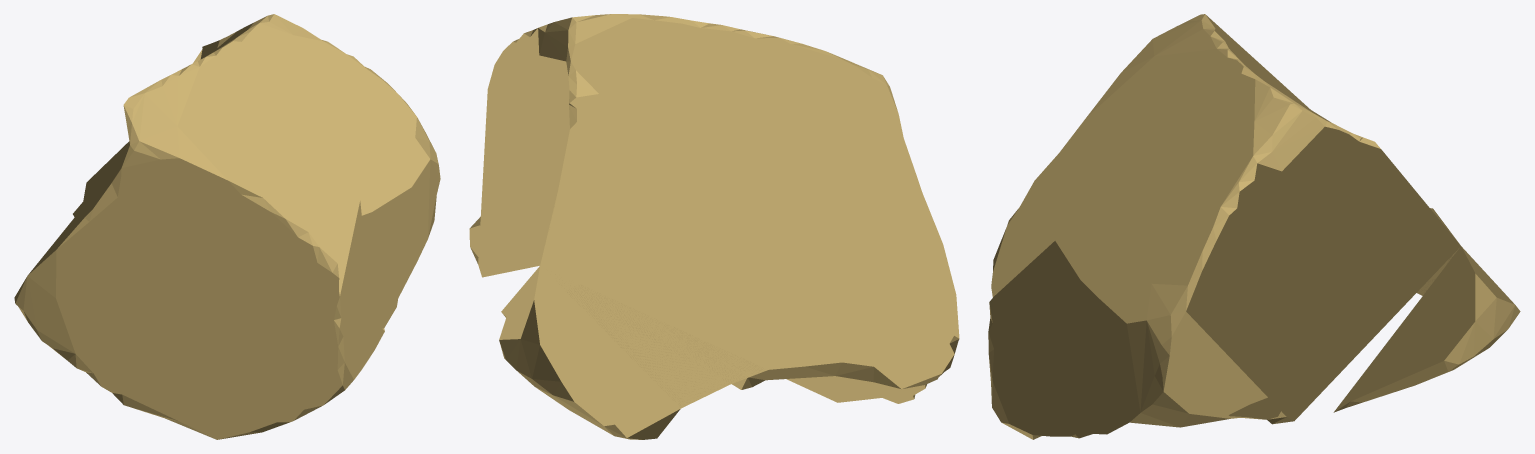
The model's file is KumKayası.fbx.
3 views of the same model, side by side, from view 1: azimuth 30°, elevation 25°; view 2: azimuth 150°, elevation 25°; view 3: azimuth 270°, elevation 25° (orthographic). The views are drawn at different scales.
Visible parts, largest first — view 1: Cube; view 2: Cube; view 3: Cube.
Boxes of the visible parts, left/top/right/bottom form: Cube: left=14, top=14, right=440, bottom=439; Cube: left=469, top=14, right=959, bottom=439; Cube: left=988, top=14, right=1520, bottom=439.
Bounding box in the file's own units: 97.58 × 77.56 × 91.05.
